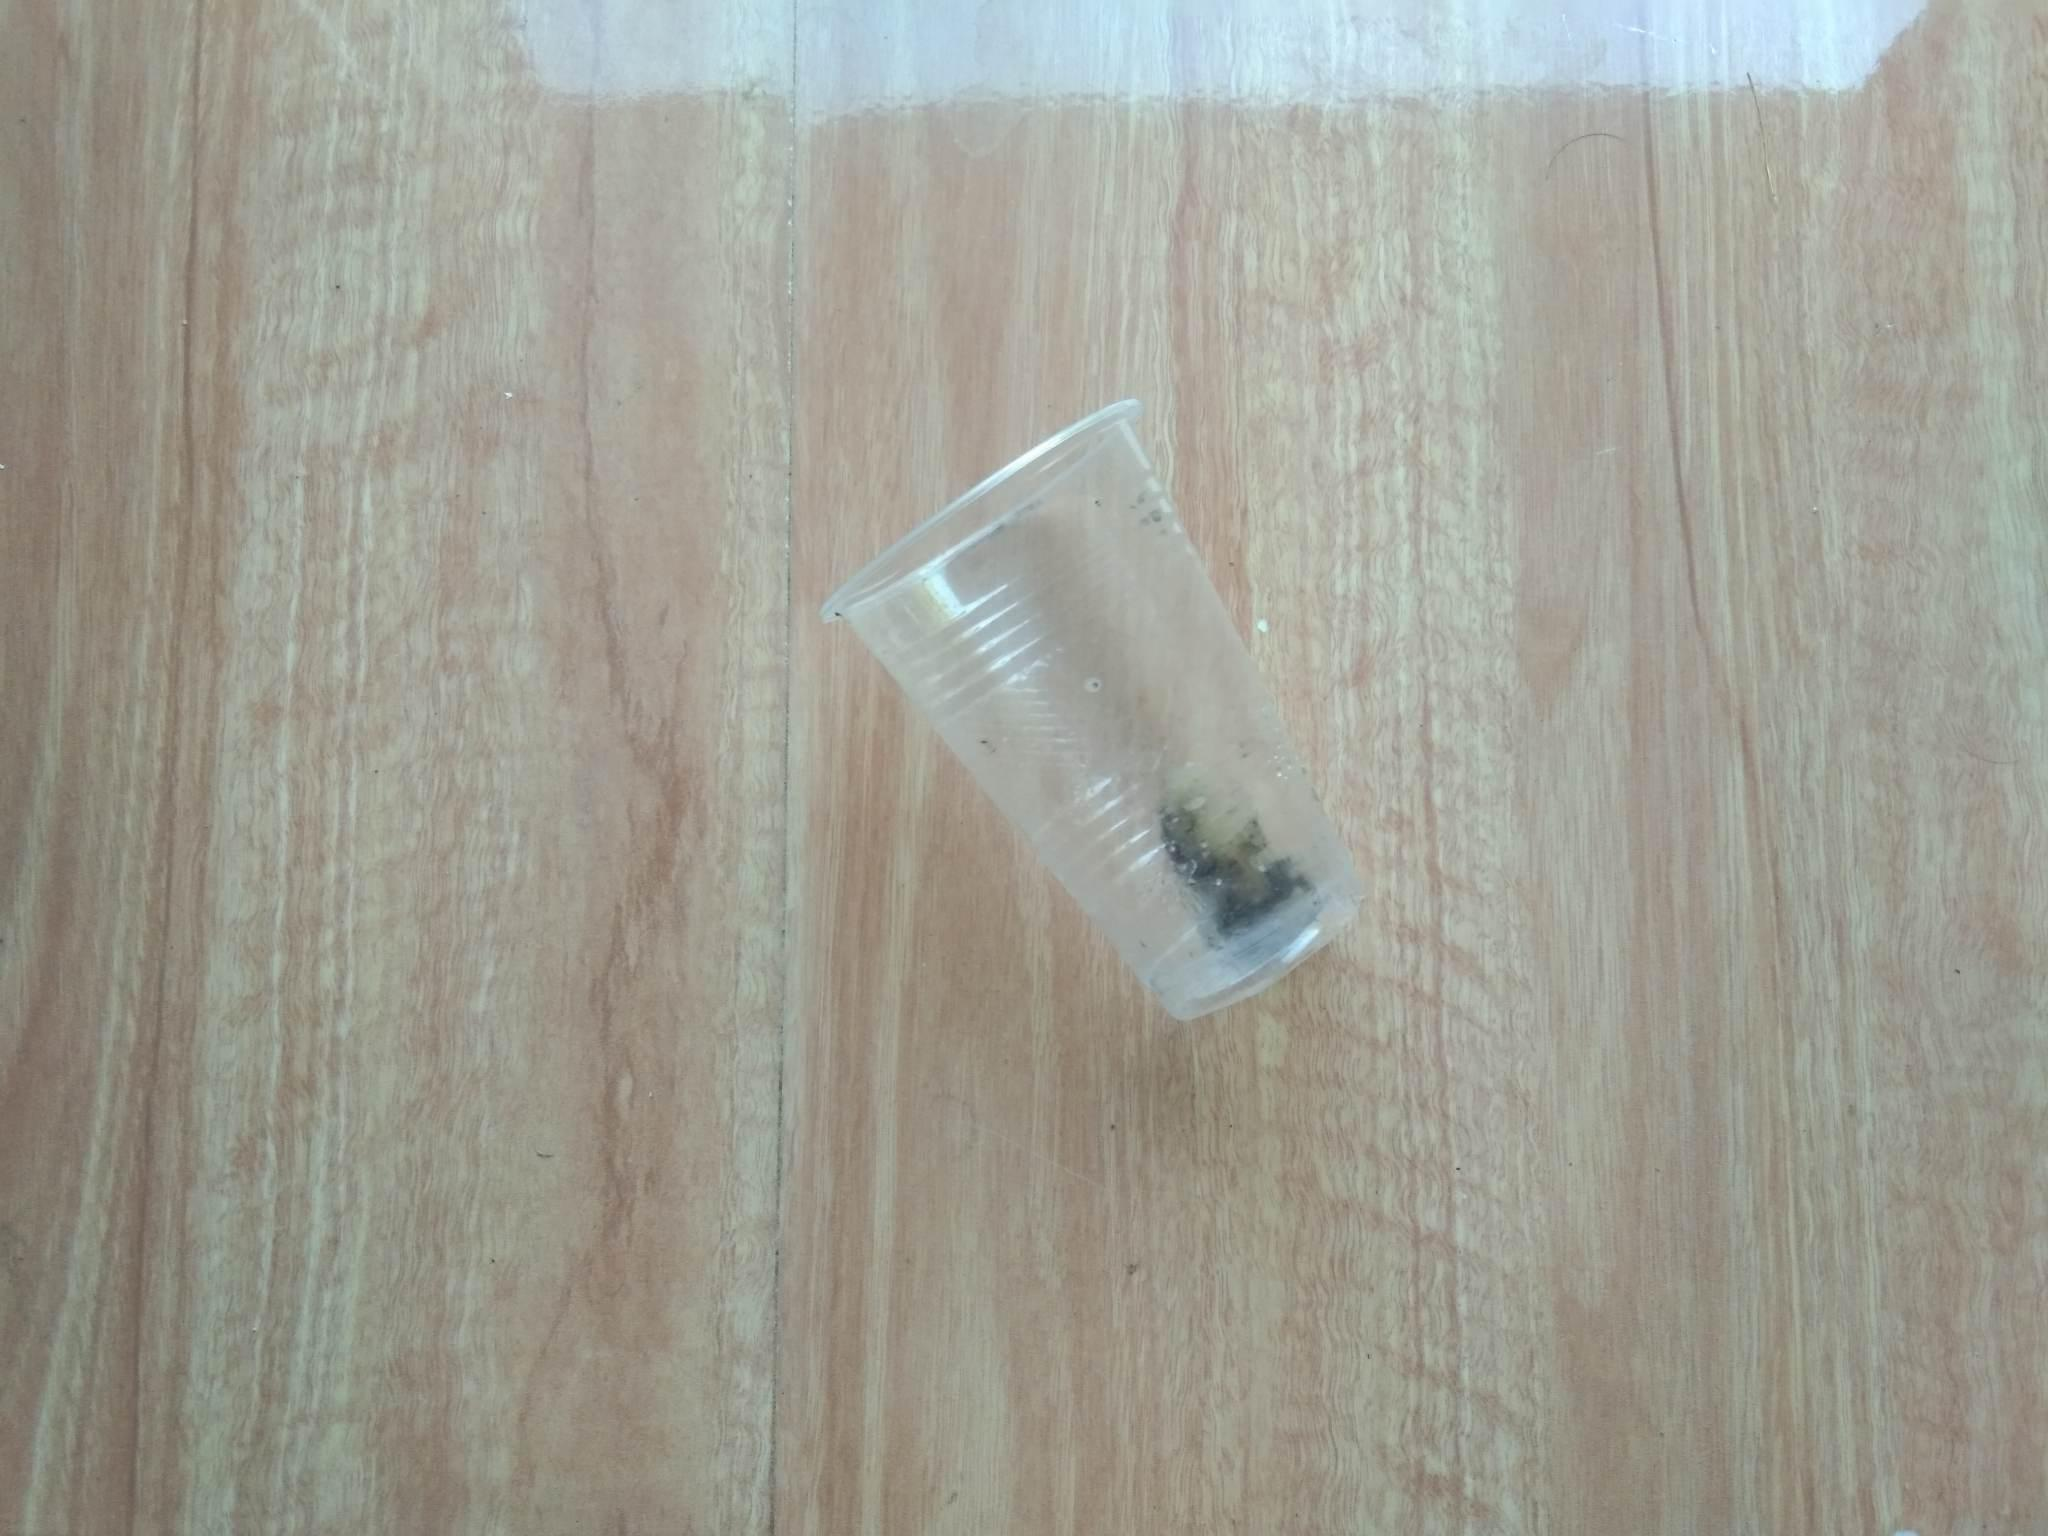plastic: (766, 376, 1500, 1196)
